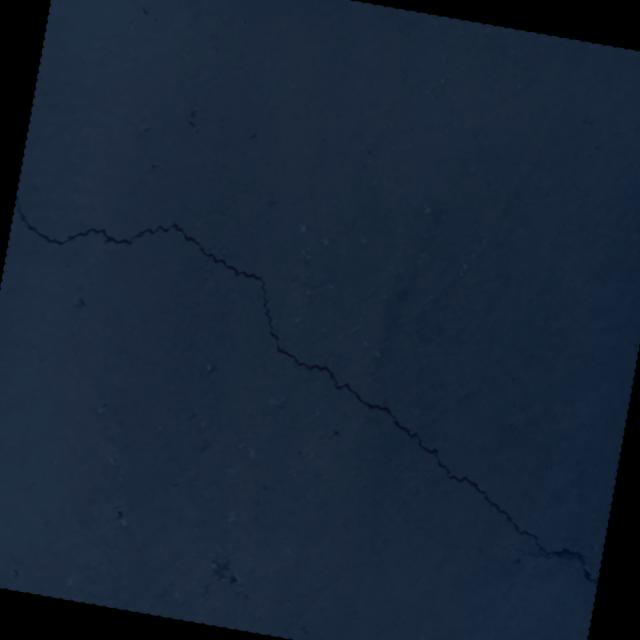crack: (0, 195, 640, 586), (445, 542, 484, 554)
